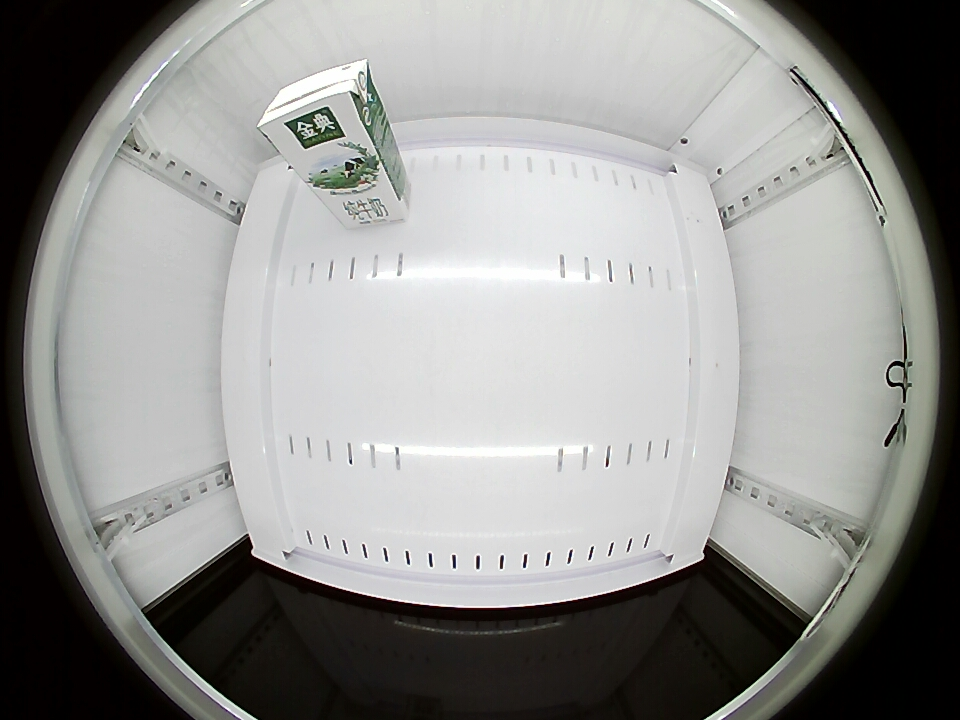jindian: (257, 57, 378, 158)
